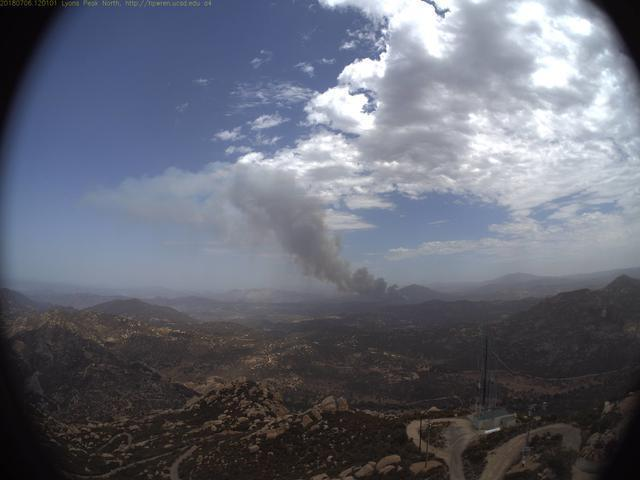Smoke: (153, 157, 431, 311)
